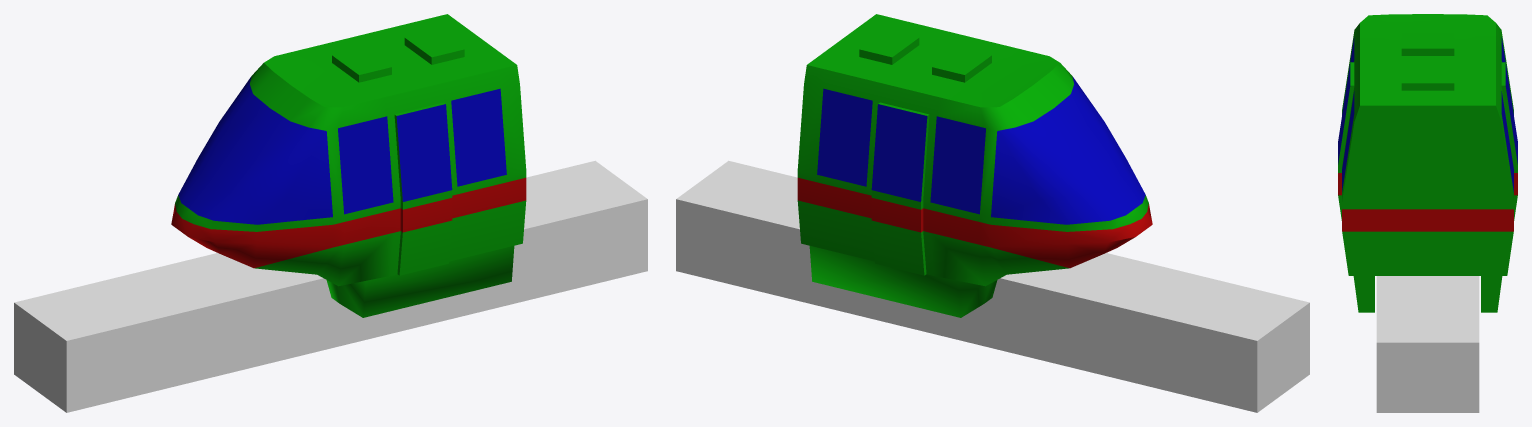
File: car-1.fbx
3 views of the same model, side by side, from view 1: azimuth 30°, elevation 25°; view 2: azimuth 150°, elevation 25°; view 3: azimuth 270°, elevation 25° (orthographic). The views are drawn at different scales.
Visible parts, largest first — view 1: Front Car, TrackMask, Front Car-Door, Front Car-Flanges, Front Car-Top; view 2: Front Car, TrackMask, Front Car-Door, Front Car-Flanges, Front Car-Top; view 3: Front Car, TrackMask, Front Car-Top, Front Car-Door, Front Car-Flanges.
Boxes of the visible parts, box(x1,y1,x2,y2) form: Front Car: box(171, 14, 526, 286); TrackMask: box(14, 160, 647, 412); Front Car-Door: box(394, 102, 452, 275); Front Car-Flanges: box(326, 246, 514, 317); Front Car-Top: box(332, 29, 464, 82); Front Car: box(797, 14, 1152, 286); TrackMask: box(676, 160, 1309, 412); Front Car-Door: box(871, 102, 929, 275); Front Car-Flanges: box(809, 246, 997, 317); Front Car-Top: box(859, 29, 991, 82); Front Car: box(1342, 14, 1513, 275); TrackMask: box(1376, 276, 1479, 412); Front Car-Top: box(1401, 33, 1454, 90); Front Car-Door: box(1338, 62, 1517, 220); Front Car-Flanges: box(1353, 276, 1502, 312).
Bounding box in the file's own units: 1000 × 418 × 274.
